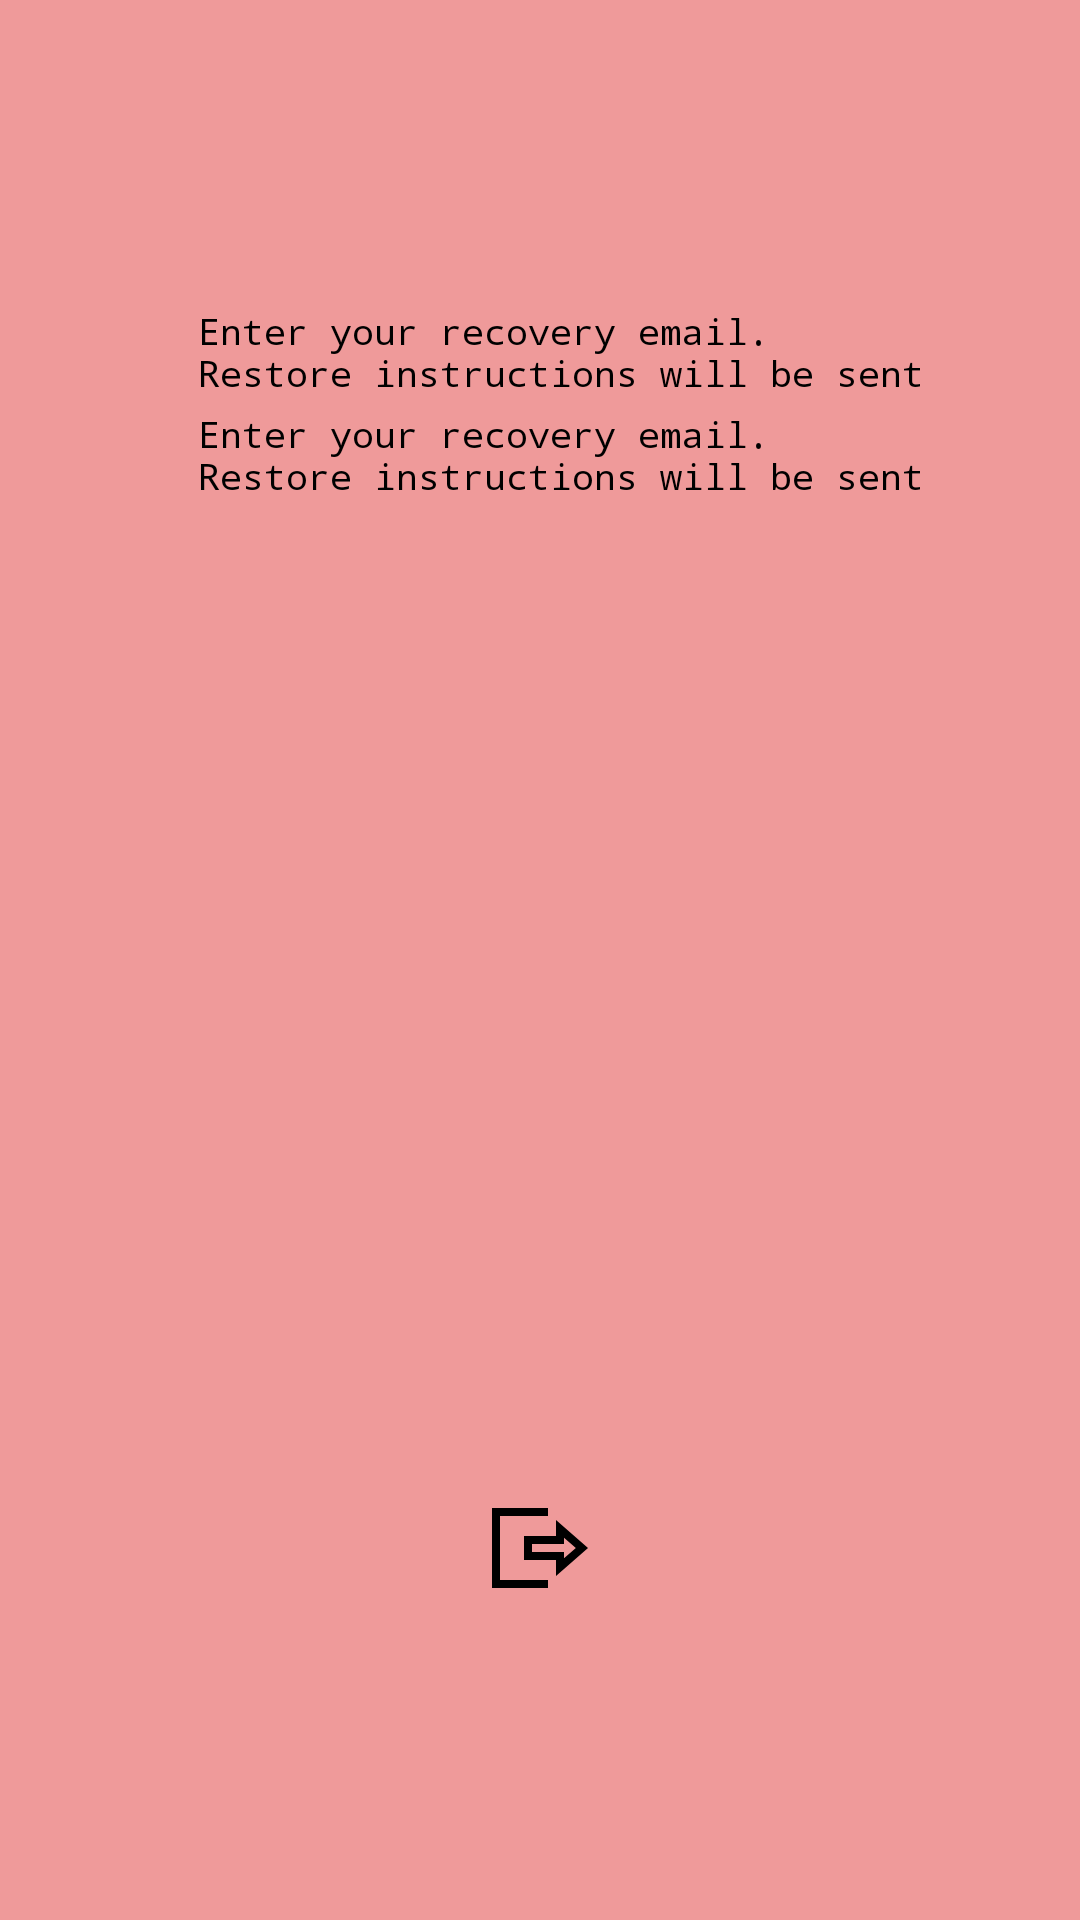

Locate icon controls on the screen. Image size 1080x1920, boxes as (x1, y1, x2, y2).
log out: (492, 1508, 588, 1588)
